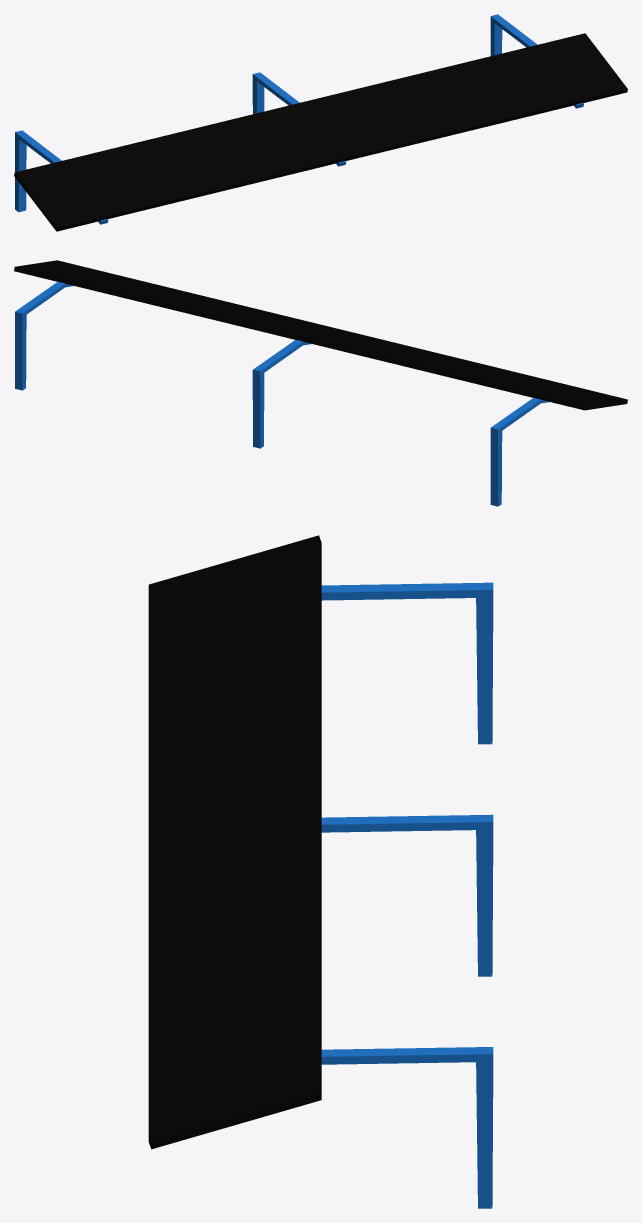
The model's file is SM_visor.fbx.
3 renders of one model, top to bottom at view 1: azimuth 30°, elevation 25°; view 2: azimuth 150°, elevation 25°; view 3: azimuth 270°, elevation 25°, orthographic. The views are drawn at different scales.
Parts seen in each view (by area): view 1: Cube_19; view 2: Cube_19; view 3: Cube_19.
Boxes of the visible parts, box(x1,y1,x2,y2) form: Cube_19: box(14, 14, 627, 231); Cube_19: box(14, 260, 627, 506); Cube_19: box(148, 535, 493, 1208).
Bounding box in the file's own units: 682 × 91.17 × 178.
